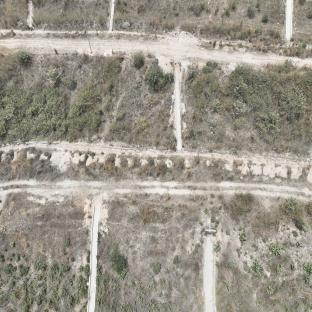slope_drain: (87, 196, 101, 312), (203, 237, 216, 312), (174, 63, 182, 151)
toe_drain: (0, 142, 311, 170), (0, 29, 312, 53)
